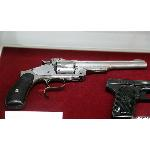Pistol: (3, 50, 149, 112)
